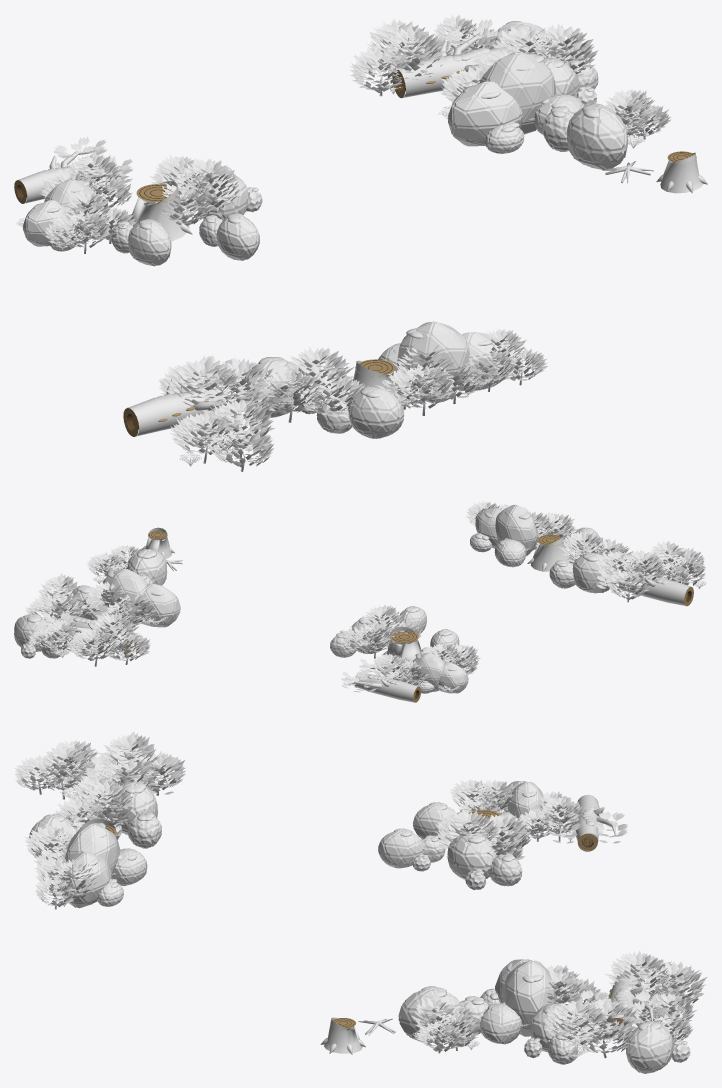
File: SM_DF_Nature_3_0_Macro.fbx
3 views of the same model, one above another, from view 1: azimuth 30°, elevation 25°; view 2: azimuth 150°, elevation 25°; view 3: azimuth 270°, elevation 25° (orthographic). The views are drawn at different scales.
Parts seen in each view (by area): view 1: SM_DF_Nature_3_0_Macro; view 2: SM_DF_Nature_3_0_Macro; view 3: SM_DF_Nature_3_0_Macro.
Part boxes in pixels (x1,y1,x2,y2): SM_DF_Nature_3_0_Macro: [14, 14, 707, 471]; SM_DF_Nature_3_0_Macro: [14, 500, 706, 702]; SM_DF_Nature_3_0_Macro: [14, 731, 707, 1073].
Size of the model in its own units: 2926 by 2782 by 346.
